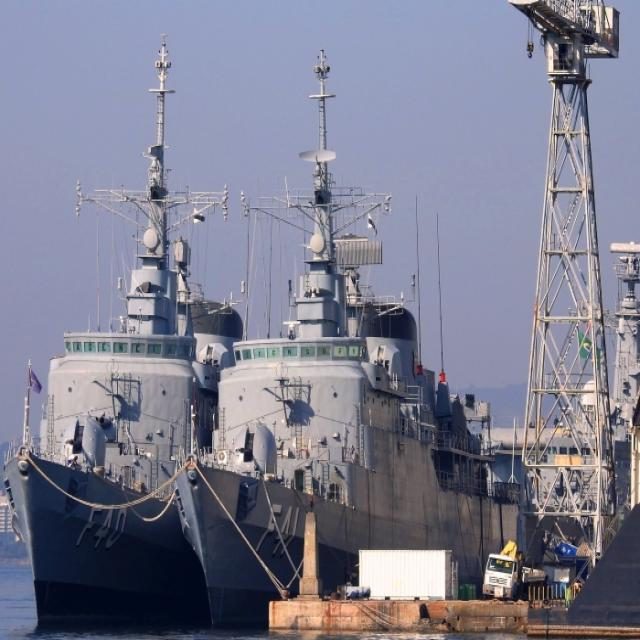Fragata: (167, 36, 523, 640), (1, 32, 254, 640)
